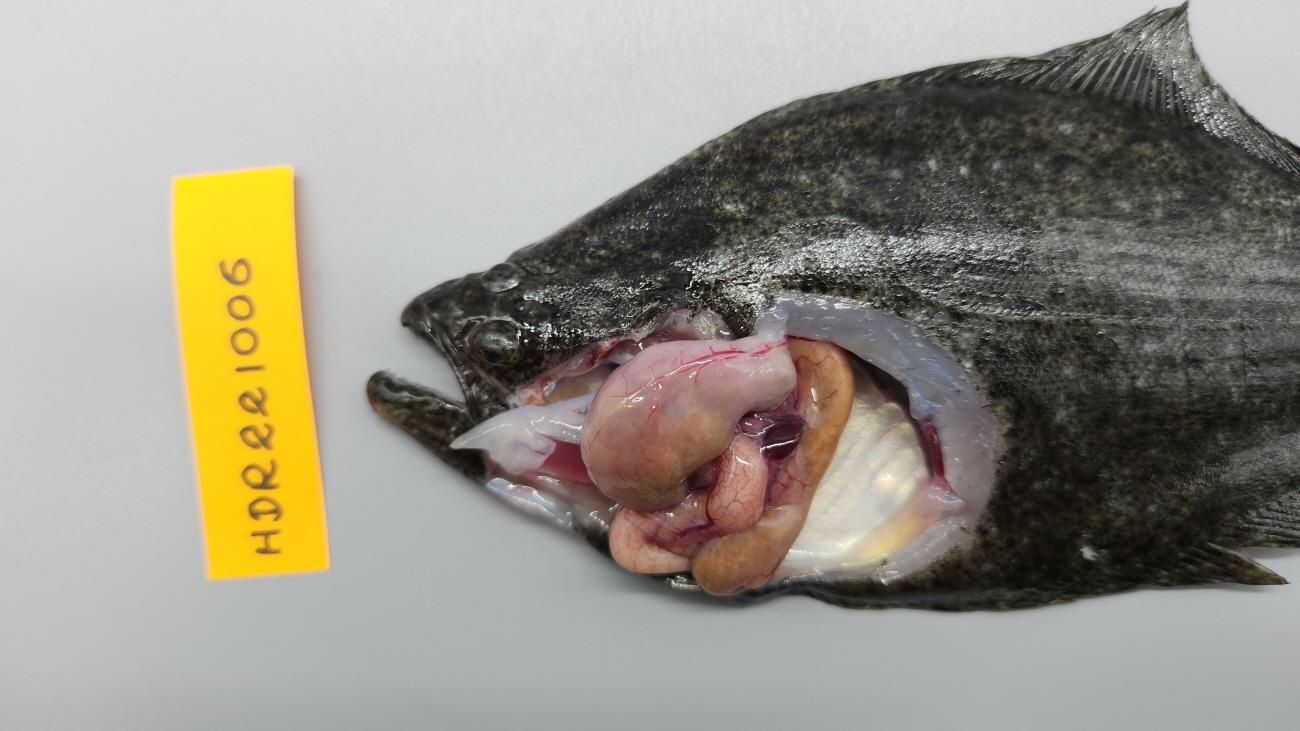POINN: (609, 432, 769, 575)
POSPN: (756, 412, 808, 460)
